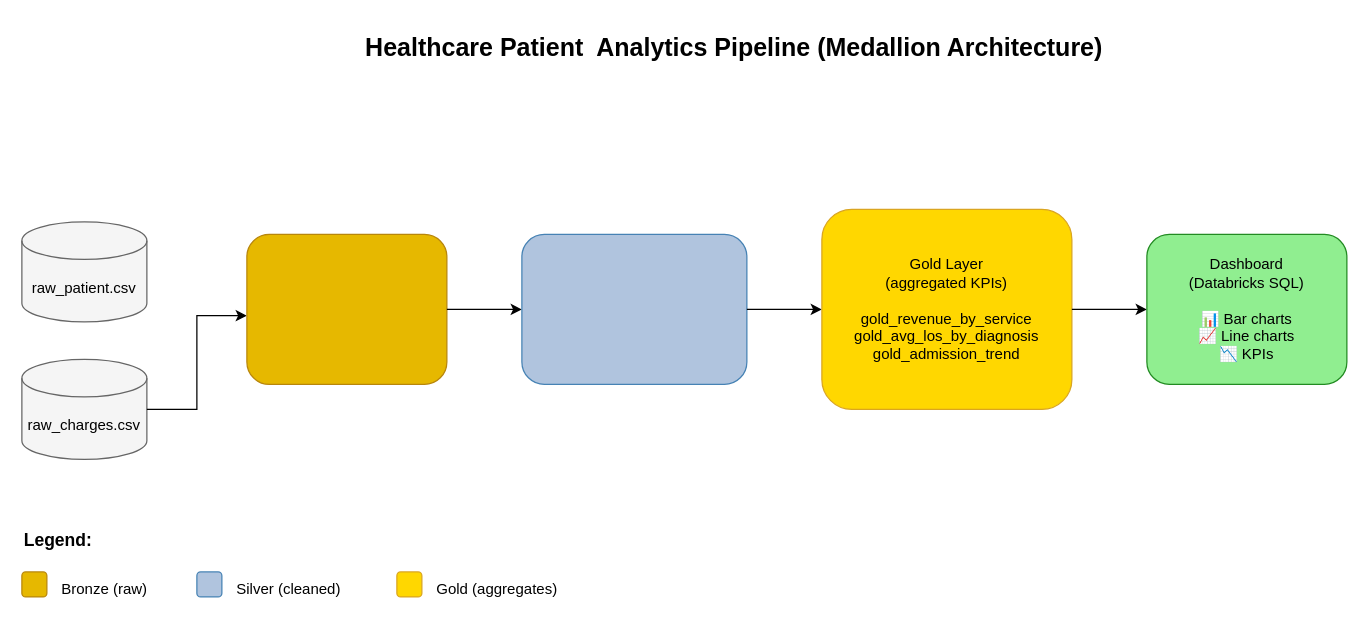
The diagram is 1369 pixels wide and 619 high, and some of its shapes have lost their labels. Here are the shapes that lost their labels. From the top down, the centre of each, then its label:
the point at 346,308: Bronze Layer (raw Delta tables) bronze_patient bronze_charges
the point at 634,308: Silver Layer (cleaned, joined, enriched) silver_patient_charges (41,213 rows)
